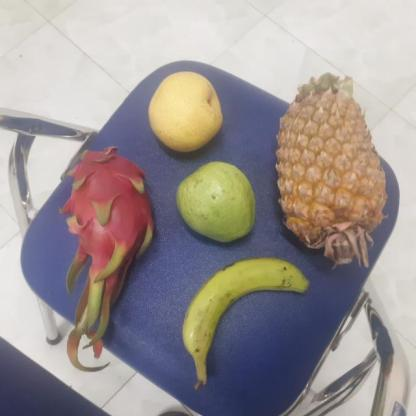banana: (176, 260, 306, 364)
guava: (174, 158, 260, 244)
pear: (145, 70, 225, 152)
pineapple: (274, 75, 385, 267)
pitaya: (62, 149, 154, 268)
